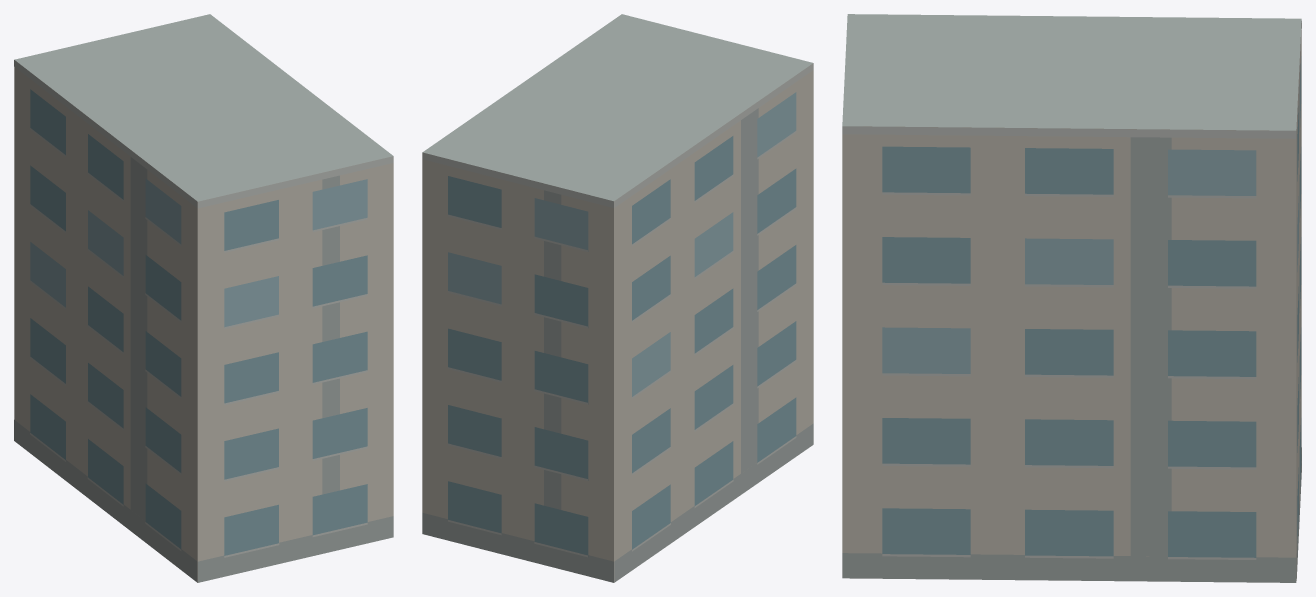
The model's file is survey-upis-33027664.glb.
The picture shows the model from 3 angles, left to right: view 1: azimuth 30°, elevation 25°; view 2: azimuth 150°, elevation 25°; view 3: azimuth 270°, elevation 25°; orthographic projection. The views are drawn at different scales.
Visible parts, largest first — view 1: survey-upis-33027664.tmp; view 2: survey-upis-33027664.tmp; view 3: survey-upis-33027664.tmp.
Boxes of the visible parts, box(x1,y1,x2,y2) form: survey-upis-33027664.tmp: box(14, 14, 393, 582); survey-upis-33027664.tmp: box(422, 14, 813, 582); survey-upis-33027664.tmp: box(842, 14, 1301, 582).
Size of the model in its own units: 7.51 by 13.55 by 12.49.
